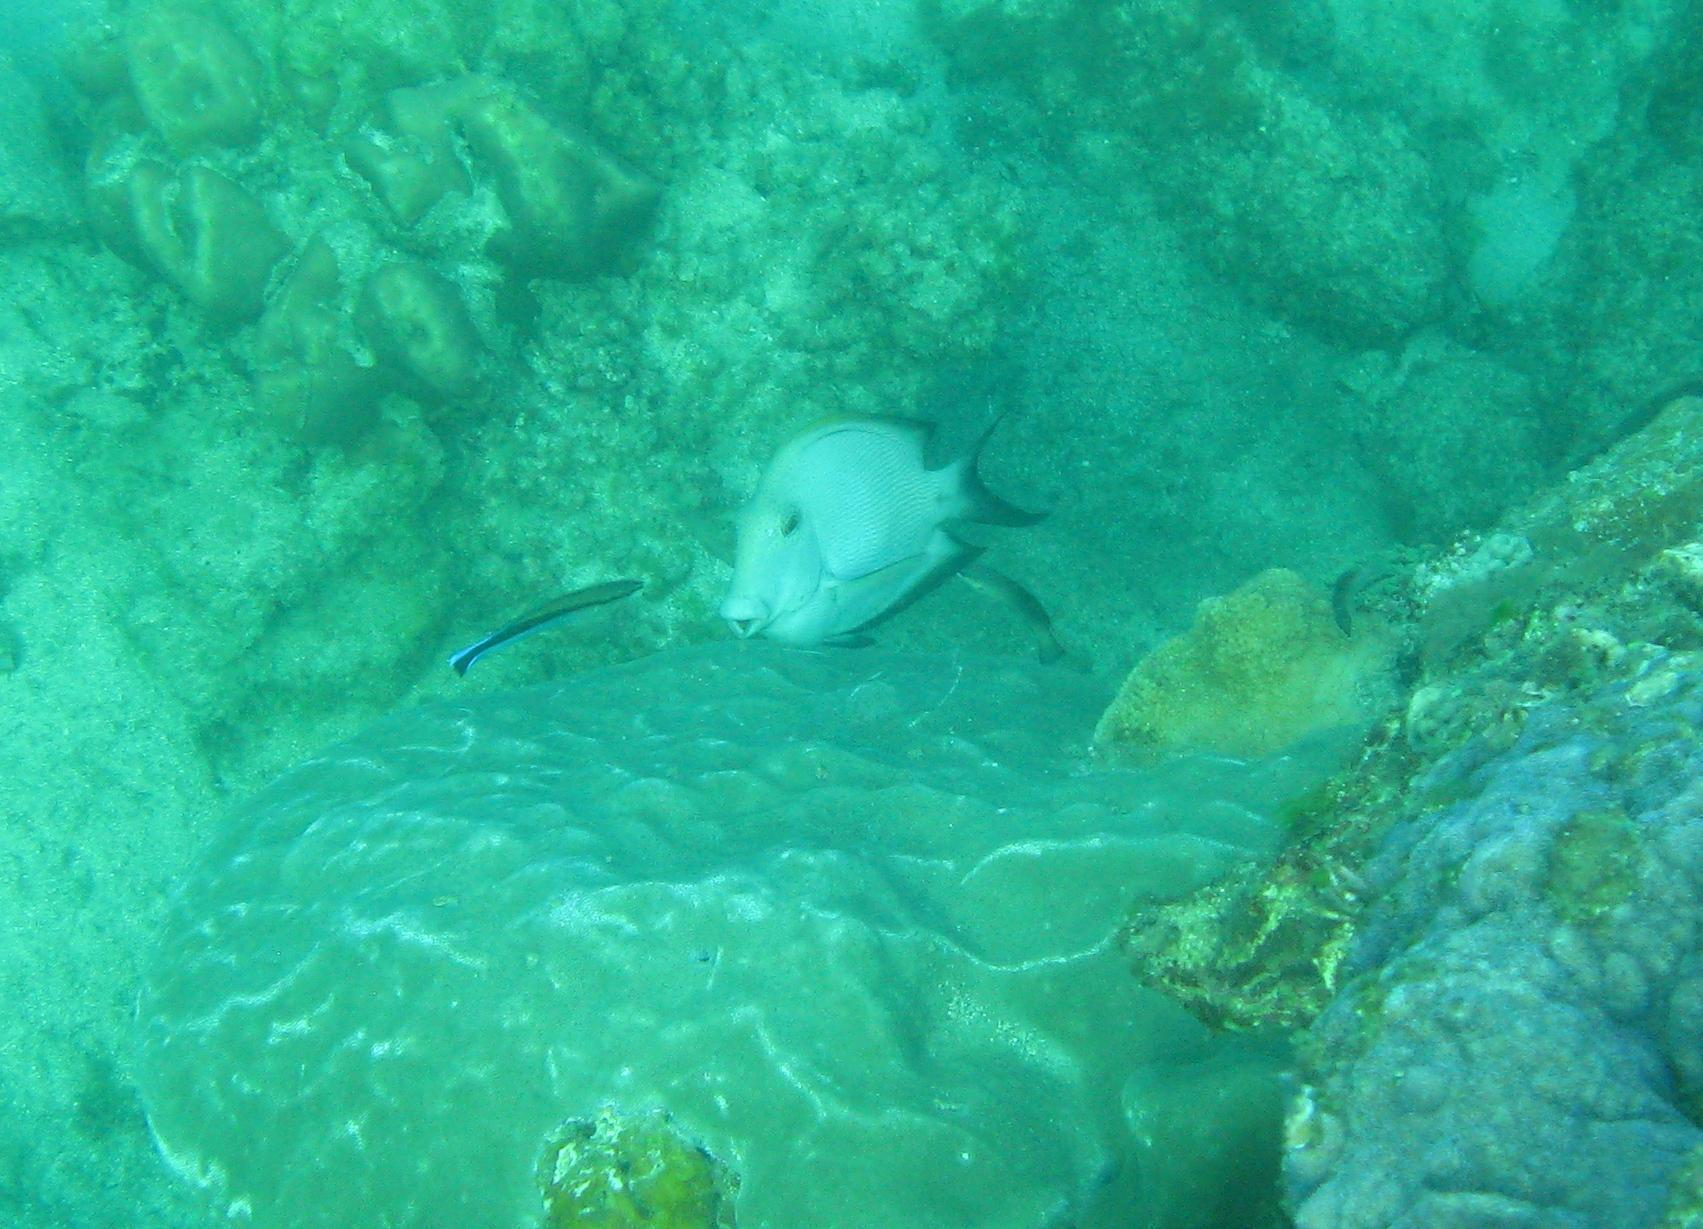Fish: (672, 366, 1096, 702)
